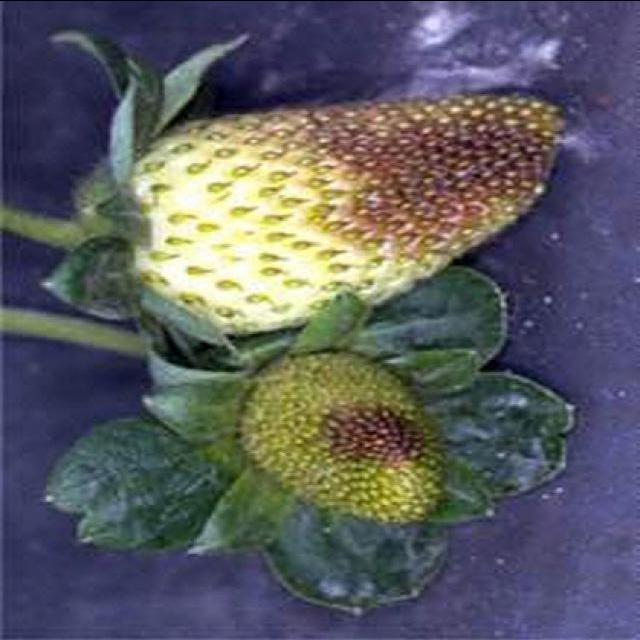Anthracnose Fruit Rot: (130, 90, 568, 353), (241, 349, 448, 525)
